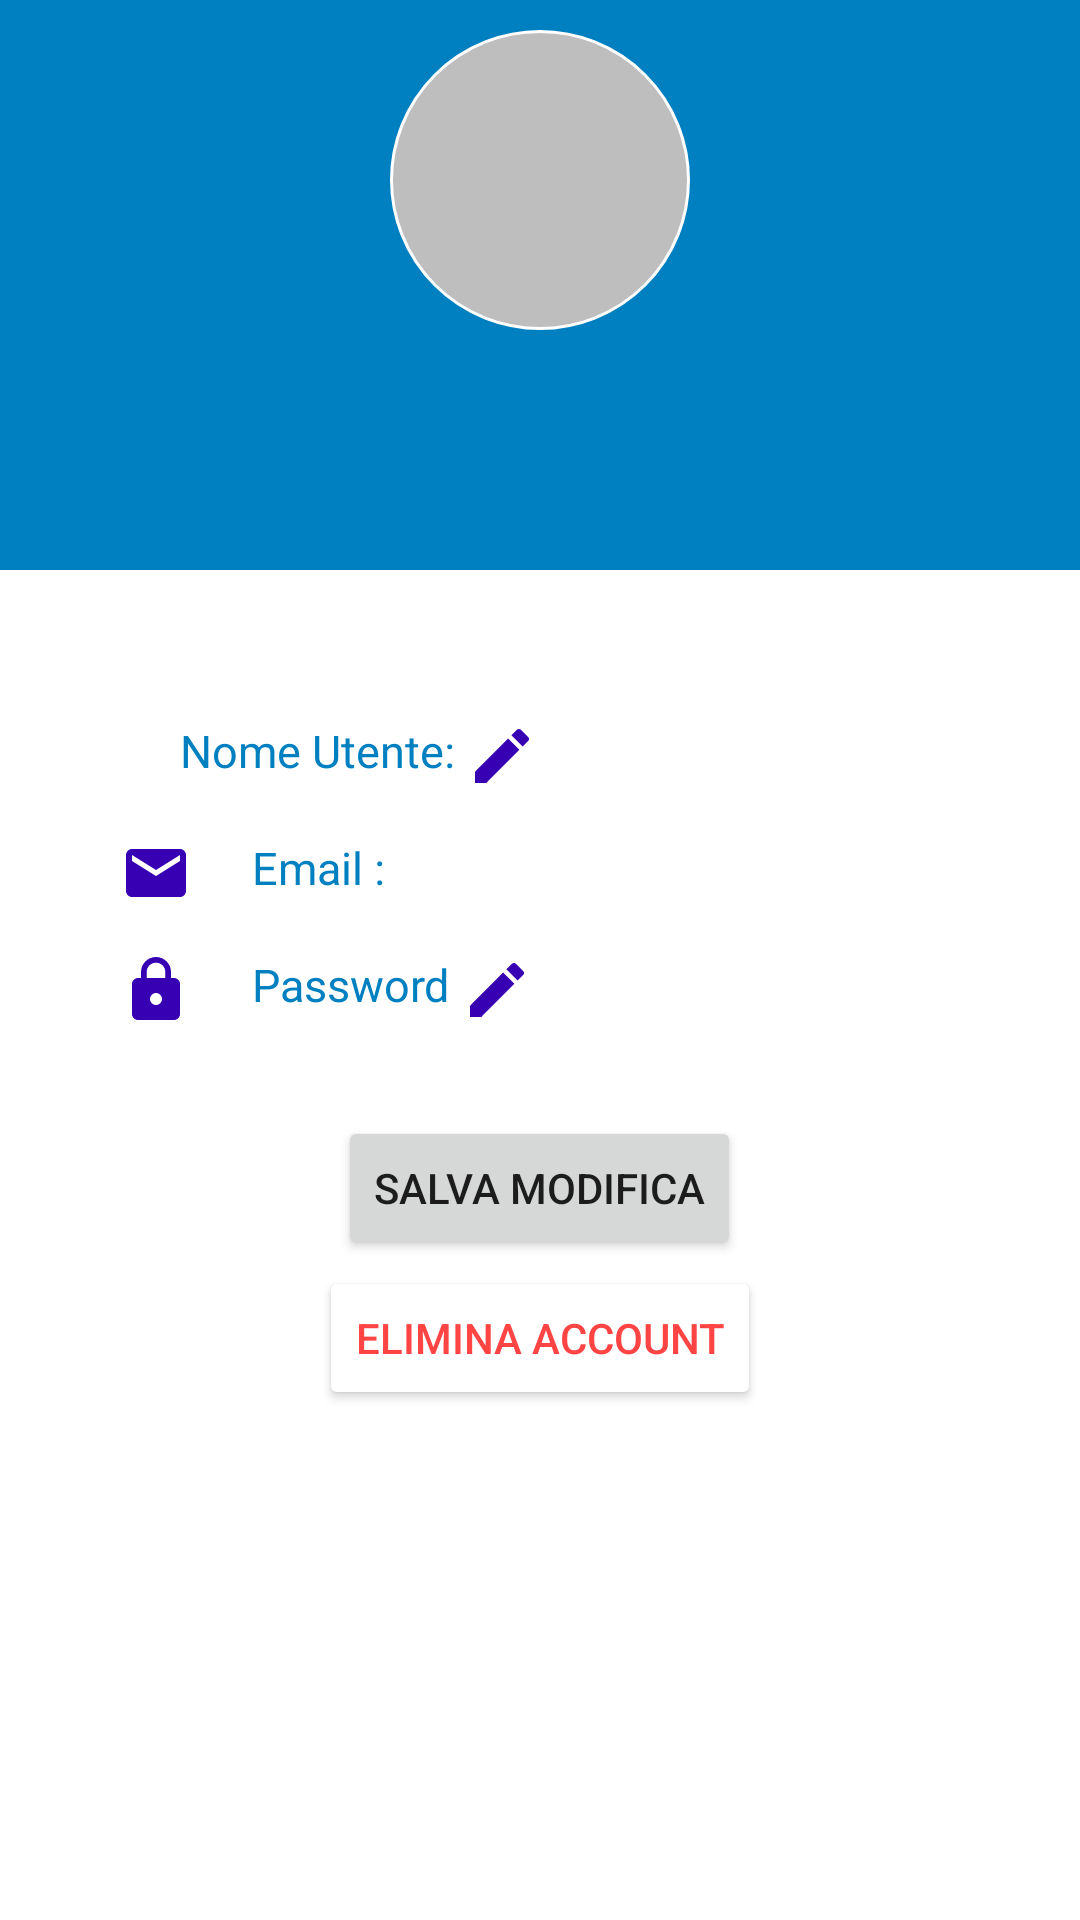

Where icons sit on this 1080 × 1920 app screen, as (x1, y1, x2, y2):
edit profilo: (475, 729, 529, 783), (470, 963, 524, 1017)
